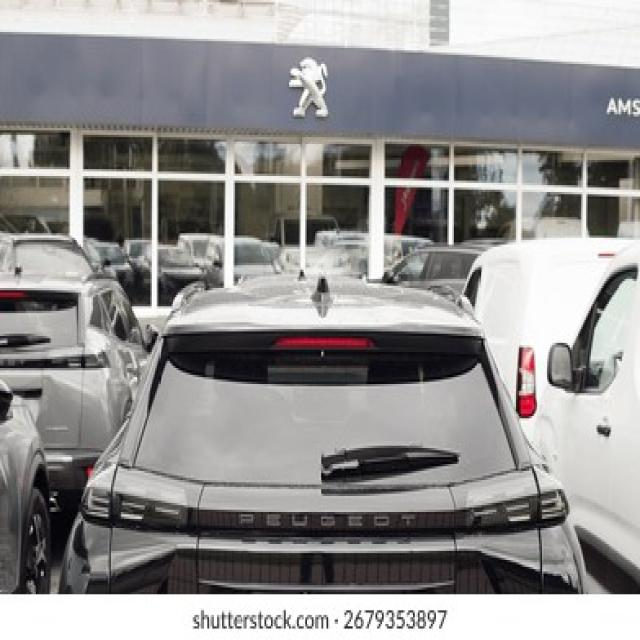pegout: (290, 52, 330, 122)
